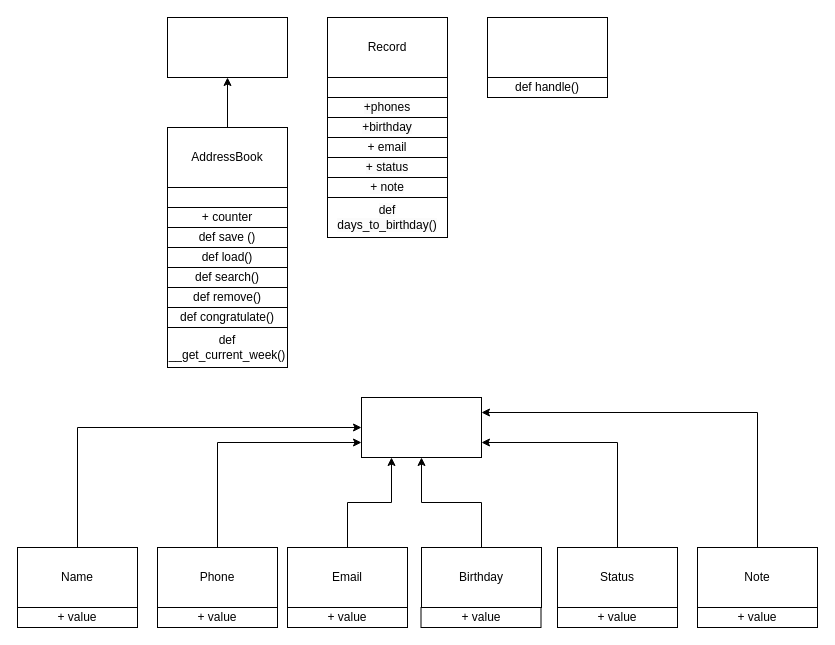
Some shapes in this 835 by 645 pixel diagram are drawn without their labels. Each missing label, with the centre of its shape:
"+ data" belongs at (x=227, y=197).
"+name" belongs at (x=387, y=87).
"Bot" belongs at (x=547, y=47).
"Field" belongs at (x=421, y=427).
"User List" belongs at (x=227, y=47).
